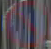No waiting: (4, 4, 47, 48)
